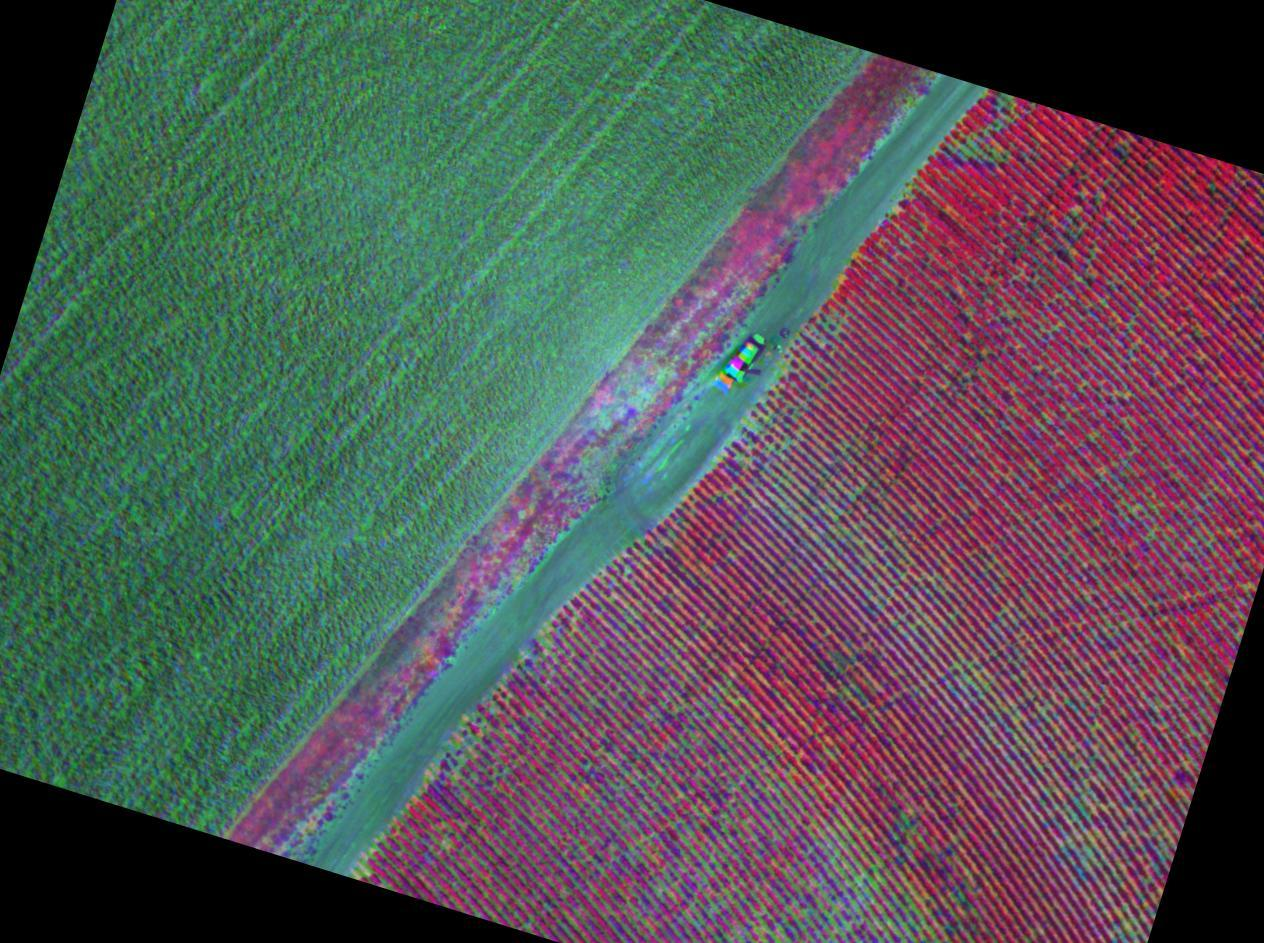dc: (964, 149, 974, 158), (856, 880, 865, 888), (783, 504, 791, 512), (1071, 208, 1077, 215), (1058, 293, 1064, 300), (1053, 324, 1059, 330), (1005, 308, 1012, 313)
